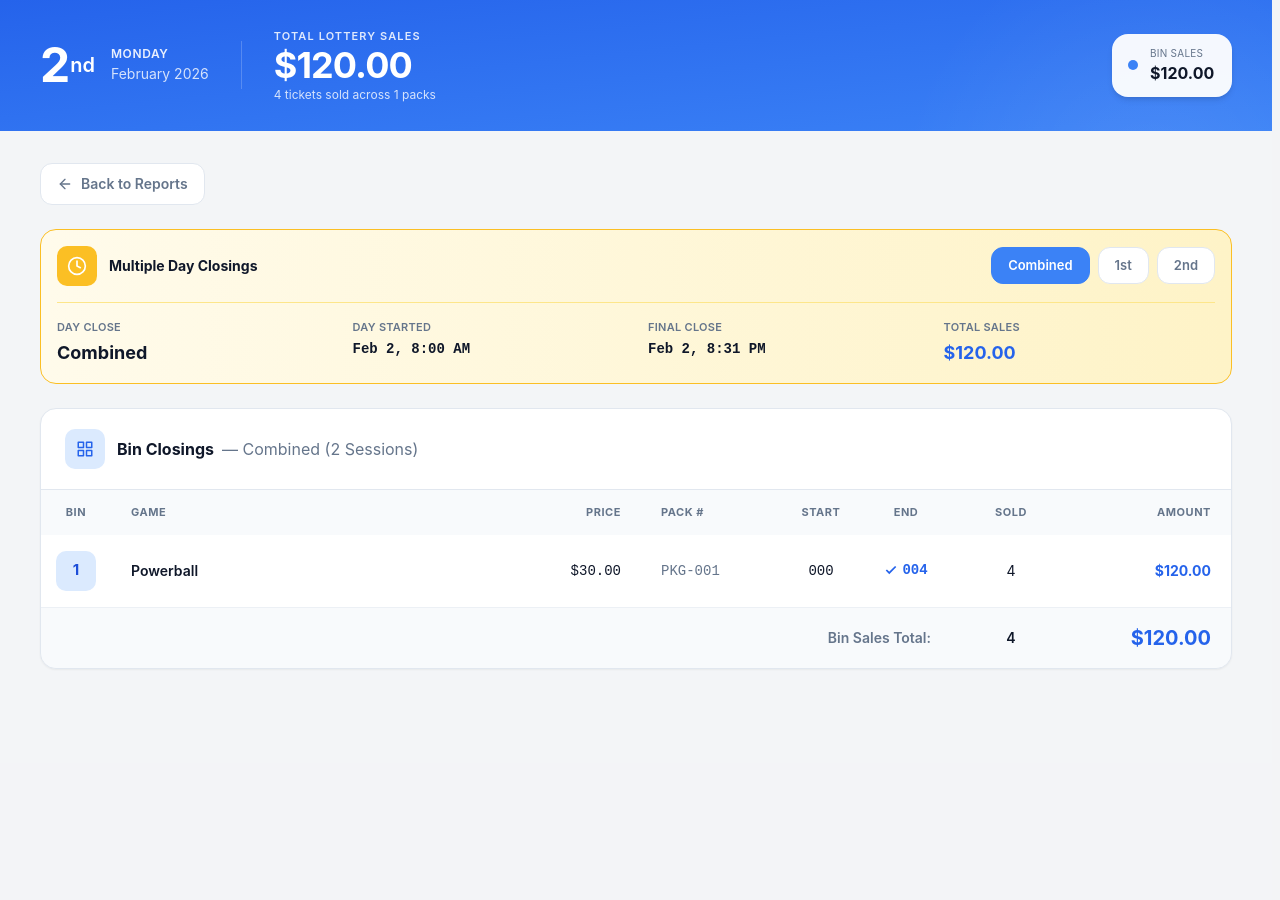
Test case: LotteryDayReportPage › Multi-Closing Date+Time Format (BIZ-002) › View Toggle Behavior › should switch between combined and individual views correctly
This screenshot has width=1280, height=900.
Expected: the text "Day Close" is shown, [57,320,121,334]
Expected: the text "Day Started" is shown, [352,320,431,334]
Note: Click on session "1st" to switch to individual view
Click the button "1st".
click(1123, 266)  # box [1098,247,1149,284]
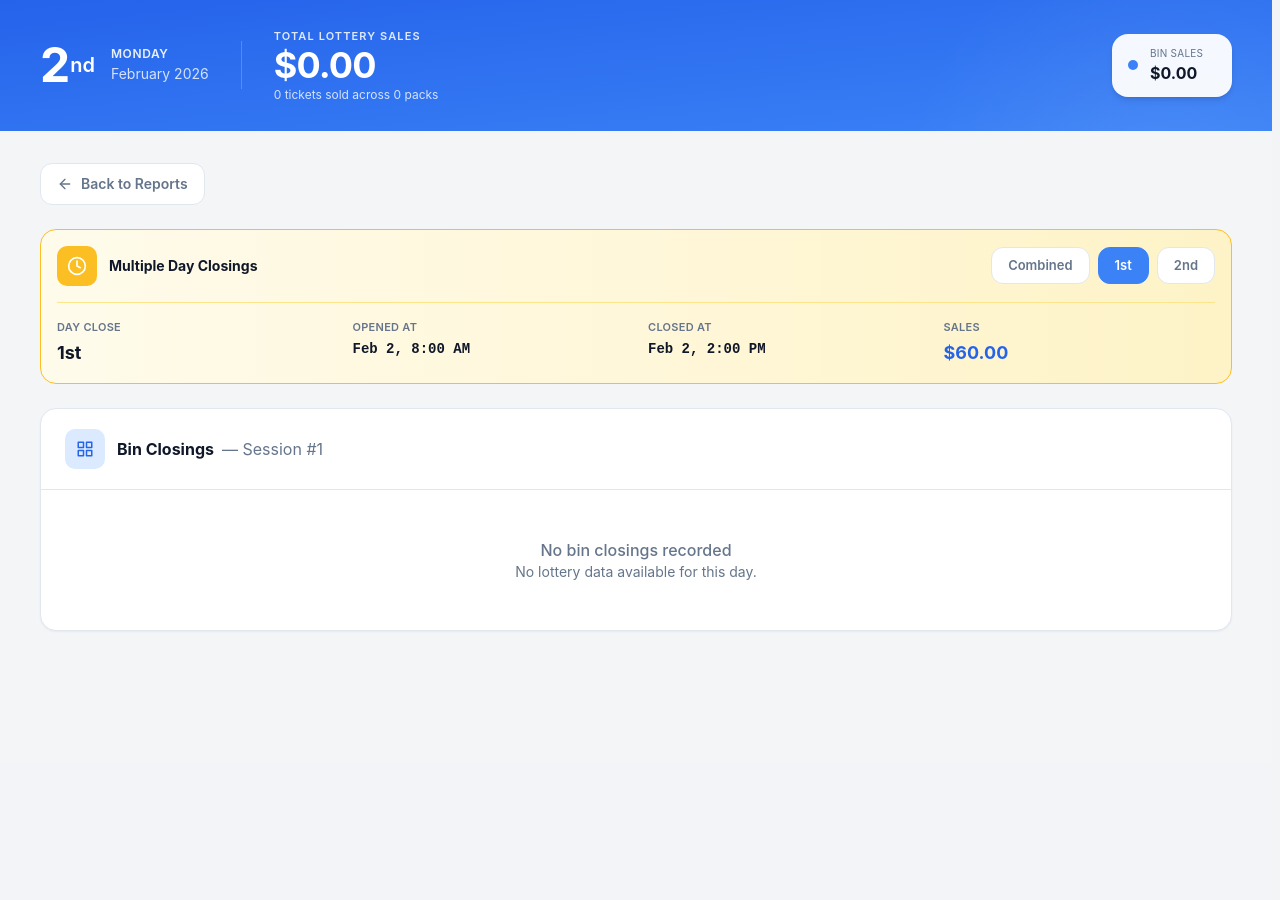
Expected: the text "Opened At" is shown, [352,320,417,334]
Expected: the text "Closed At" is shown, [648,320,712,334]
Click the button "Combined".
click(1040, 266)  # box [991,247,1090,284]
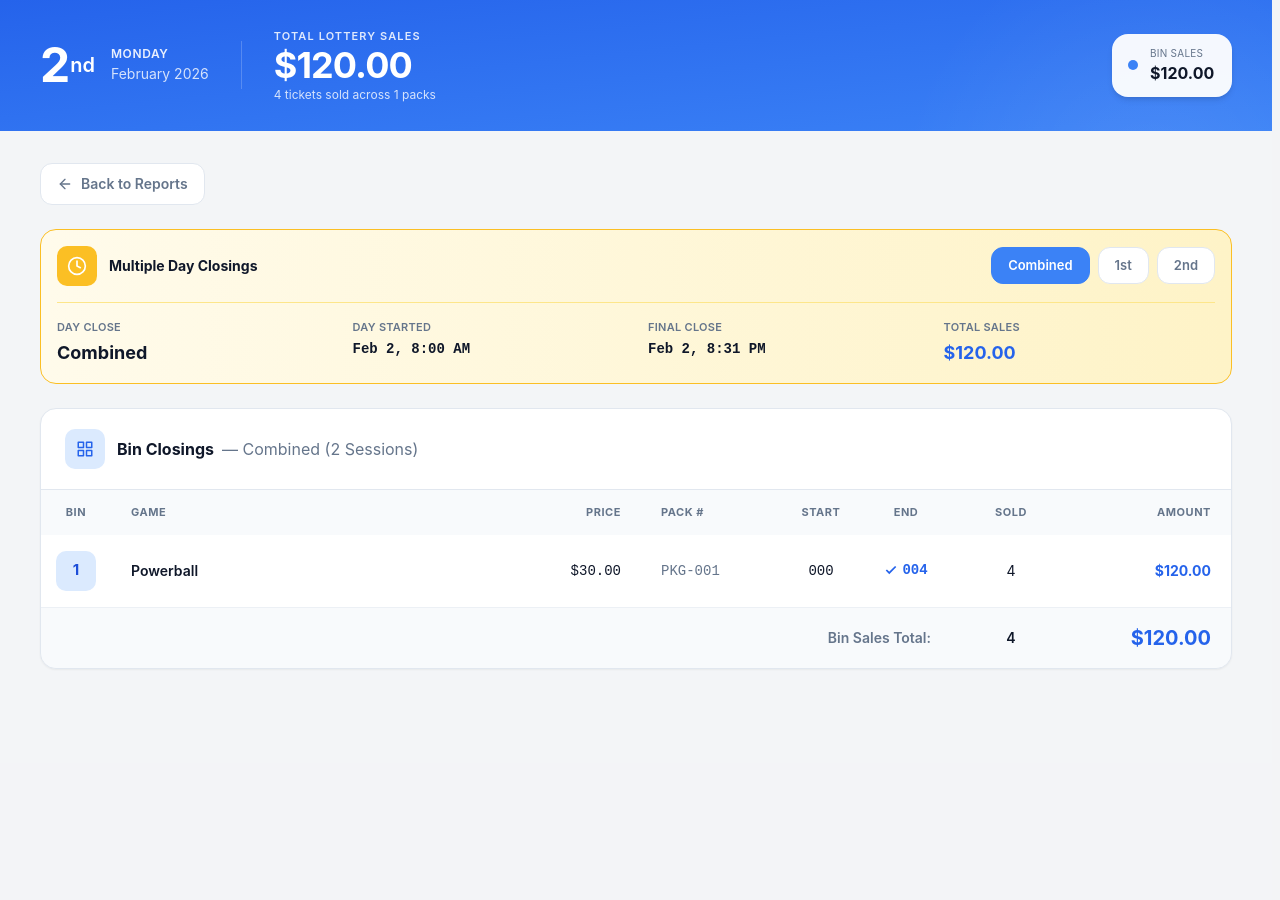
Expected: the text "Day Started" is shown, [352,320,431,334]
Expected: the text "Final Close" is shown, [648,320,722,334]
